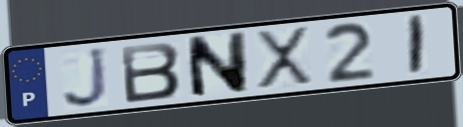2: (322, 20, 379, 86)
B: (117, 39, 183, 105)
I: (406, 12, 428, 78)
J: (60, 45, 112, 110)
N: (183, 29, 250, 102)
X: (253, 24, 316, 91)
